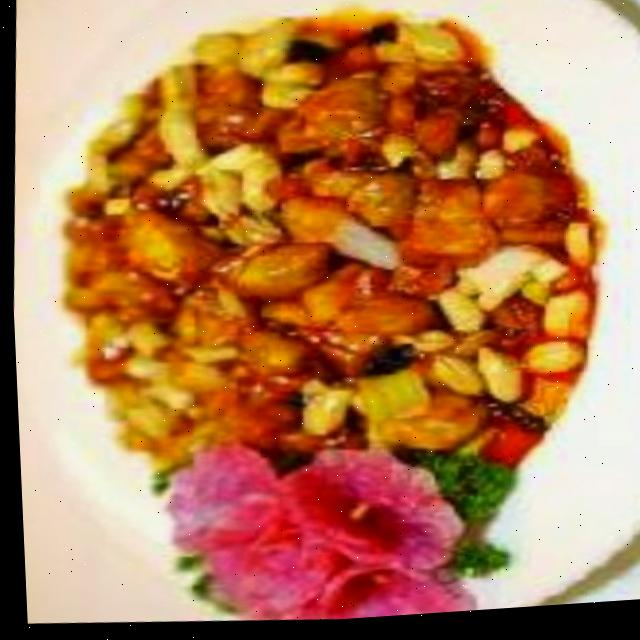鸡肉料理 含炸鸡: (12, 0, 638, 616)
